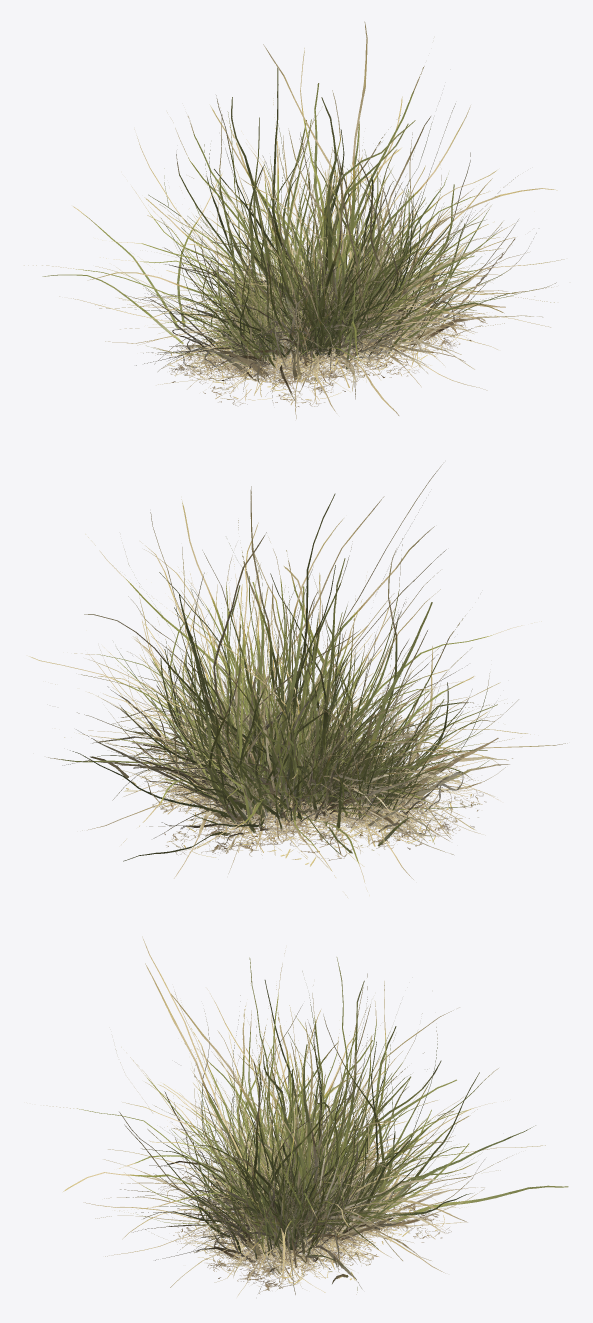
Rendered from vczndjqja_tier_2_nonUE.gltf.
3 renders of one model, top to bottom at view 1: azimuth 30°, elevation 25°; view 2: azimuth 150°, elevation 25°; view 3: azimuth 270°, elevation 25°, orthographic. The views are drawn at different scales.
Parts seen in each view (by area): view 1: SM_vczndjqja_VarA, SM_vczndjqja_VarG, SM_vczndjqja_VarD, SM_vczndjqja_VarE, SM_vczndjqja_VarF, SM_vczndjqja_VarH, SM_vczndjqja_VarB; view 2: SM_vczndjqja_VarA, SM_vczndjqja_VarG, SM_vczndjqja_VarD, SM_vczndjqja_VarE, SM_vczndjqja_VarF, SM_vczndjqja_VarH, SM_vczndjqja_VarB; view 3: SM_vczndjqja_VarA, SM_vczndjqja_VarG, SM_vczndjqja_VarD, SM_vczndjqja_VarE, SM_vczndjqja_VarF, SM_vczndjqja_VarH.
Boxes of the visible parts, x1,y1,x2,y2 form: SM_vczndjqja_VarA: (24,21,564,415); SM_vczndjqja_VarG: (136,48,543,407); SM_vczndjqja_VarD: (59,103,551,389); SM_vczndjqja_VarE: (154,167,507,418); SM_vczndjqja_VarF: (124,178,516,403); SM_vczndjqja_VarH: (180,44,457,381); SM_vczndjqja_VarB: (185,202,375,387); SM_vczndjqja_VarA: (29,486,567,897); SM_vczndjqja_VarG: (62,493,512,866); SM_vczndjqja_VarD: (48,518,518,853); SM_vczndjqja_VarE: (92,590,497,873); SM_vczndjqja_VarF: (77,575,505,866); SM_vczndjqja_VarH: (122,464,469,857); SM_vczndjqja_VarB: (237,673,427,844); SM_vczndjqja_VarA: (43,963,503,1287); SM_vczndjqja_VarG: (155,957,568,1293); SM_vczndjqja_VarD: (114,950,545,1296); SM_vczndjqja_VarE: (119,1040,473,1294); SM_vczndjqja_VarF: (126,1031,451,1282); SM_vczndjqja_VarH: (142,936,393,1292).
Size of what is drawn, in the model's own units: 1.58 by 0.9148 by 1.67.
1 material, 1 textured.
